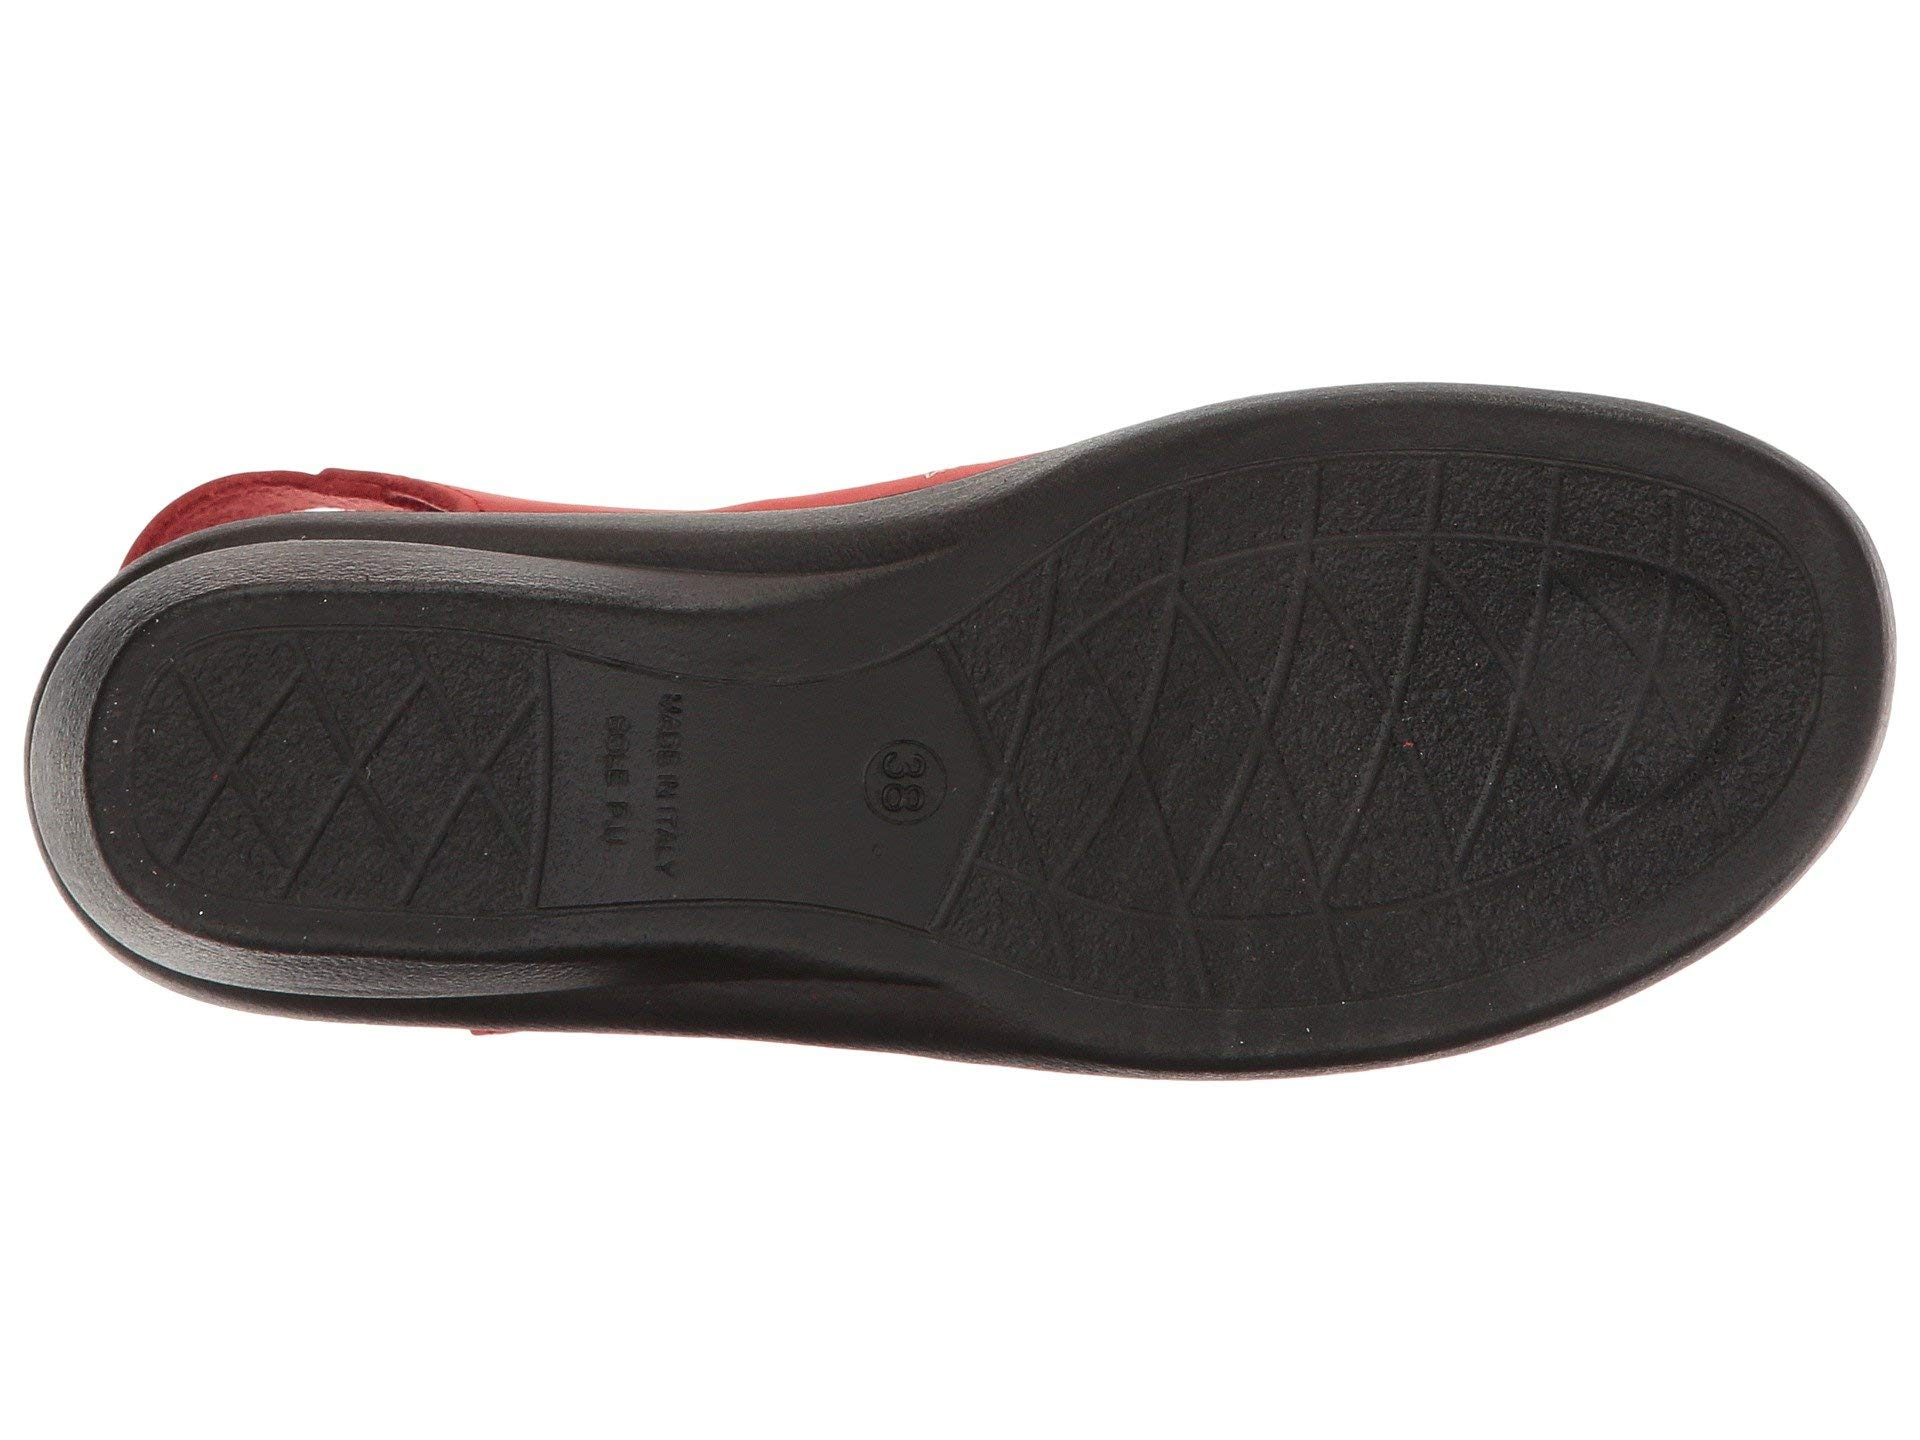circle: (847, 712, 958, 833)
exclude: (147, 434, 506, 555)
quad: (1093, 466, 1456, 998), (181, 638, 502, 903)
text: (559, 667, 712, 886), (847, 712, 958, 833)
triangle: (1093, 466, 1456, 998), (181, 638, 502, 903)
